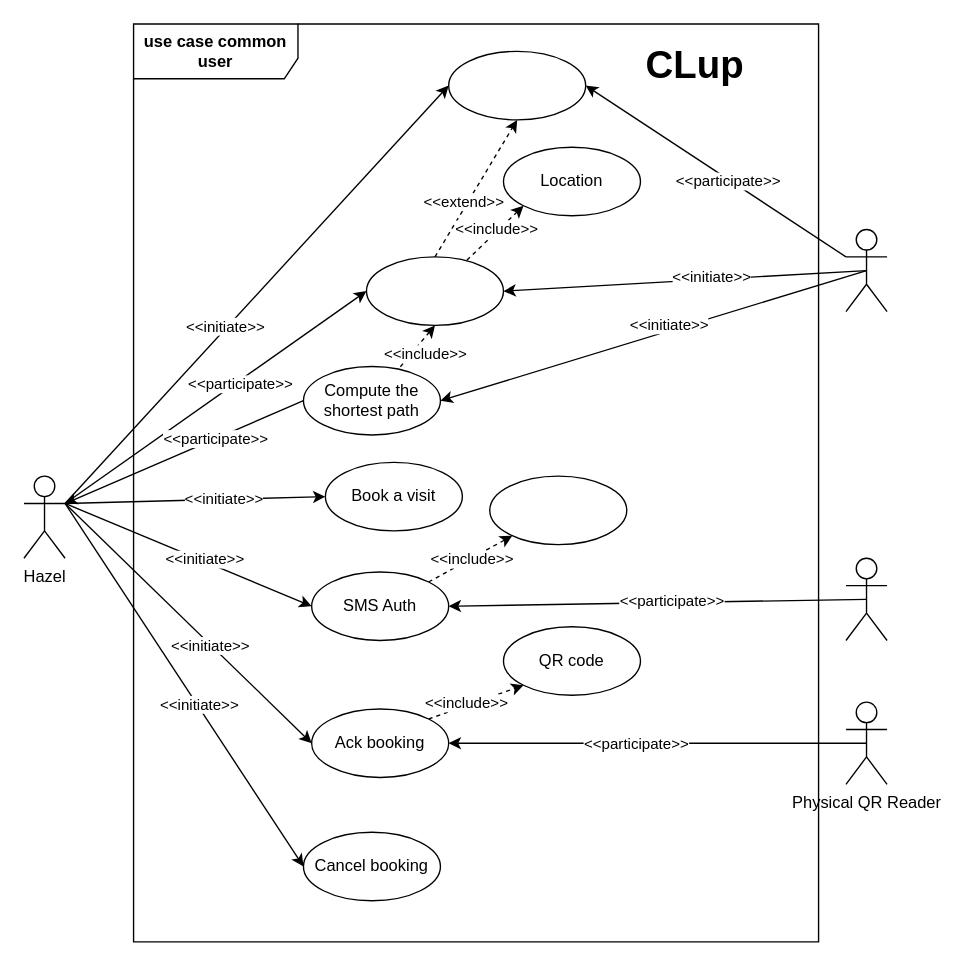
The diagram is 964 pixels wide and 966 high, and some of its shapes have lost their labels. The centre of each missing label's shape, as x and y in pixels:
"Choose a store" goes at point (516, 85).
"NMS" goes at point (866, 598).
"Phone number" goes at point (557, 510).
"Retrieve geo" goes at point (434, 290).
"Yandex Maps" goes at point (866, 270).
